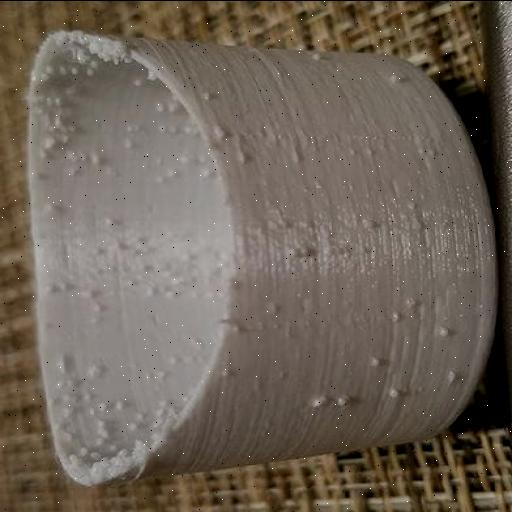blobs: (313, 286, 465, 426), (52, 354, 162, 470), (73, 238, 177, 316), (220, 292, 288, 388), (205, 85, 283, 168), (45, 120, 121, 200), (379, 66, 421, 96)
